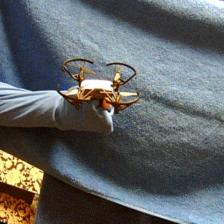drone: (55, 57, 142, 115)
